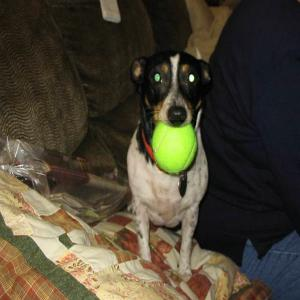TennisBall: (153, 122, 198, 174)
